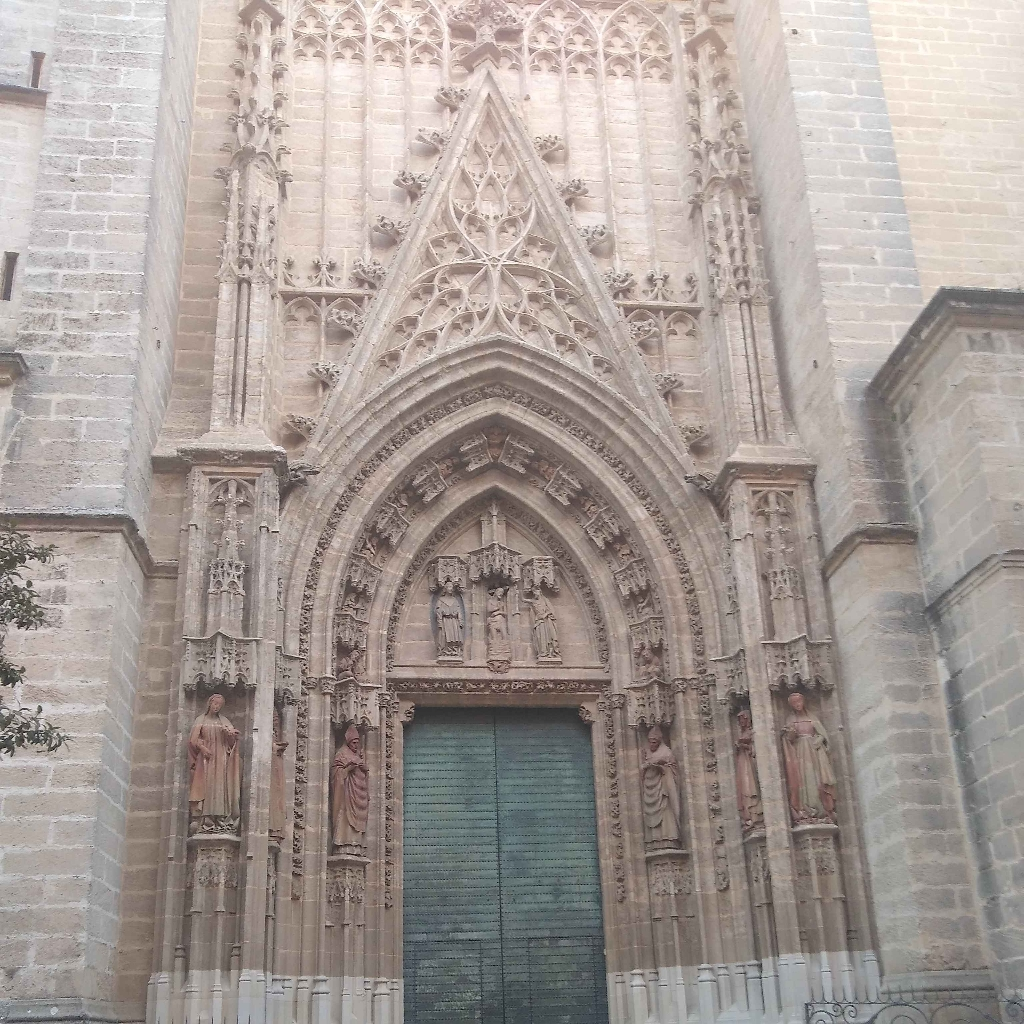arco-apuntado: (276, 338, 697, 655)
